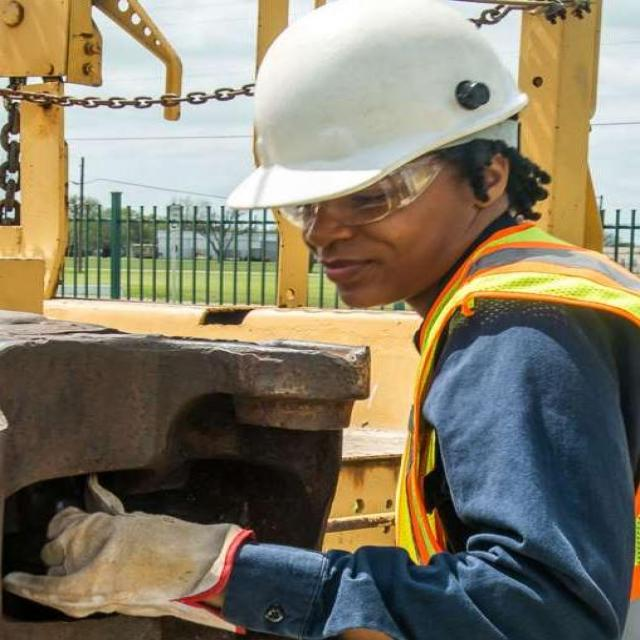Reflective-Jacket: (376, 216, 635, 640)
Safety-Helmet: (223, 3, 538, 215)
